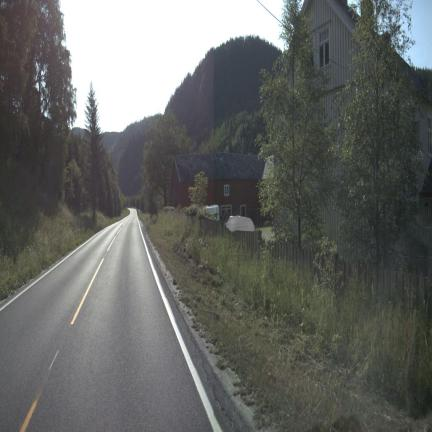Road: (0, 210, 231, 431)
